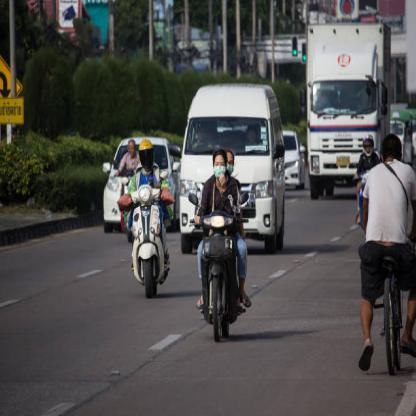Motorcycle: (188, 192, 243, 343), (122, 179, 171, 296)
